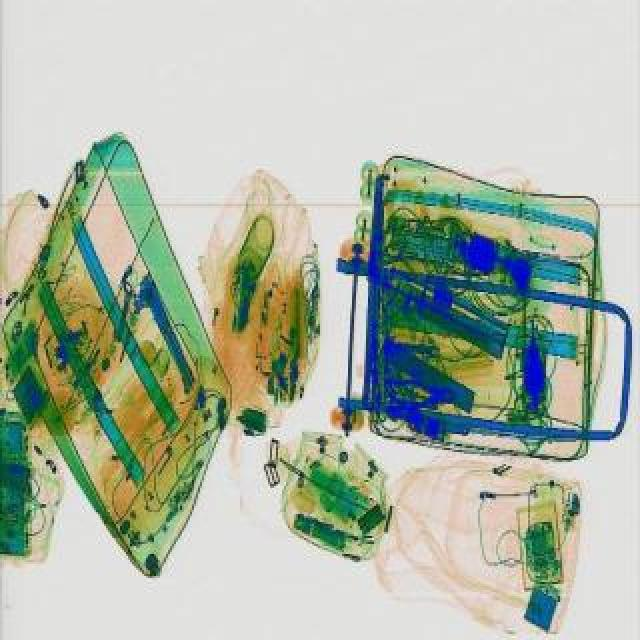wrench: (384, 376, 460, 408)
